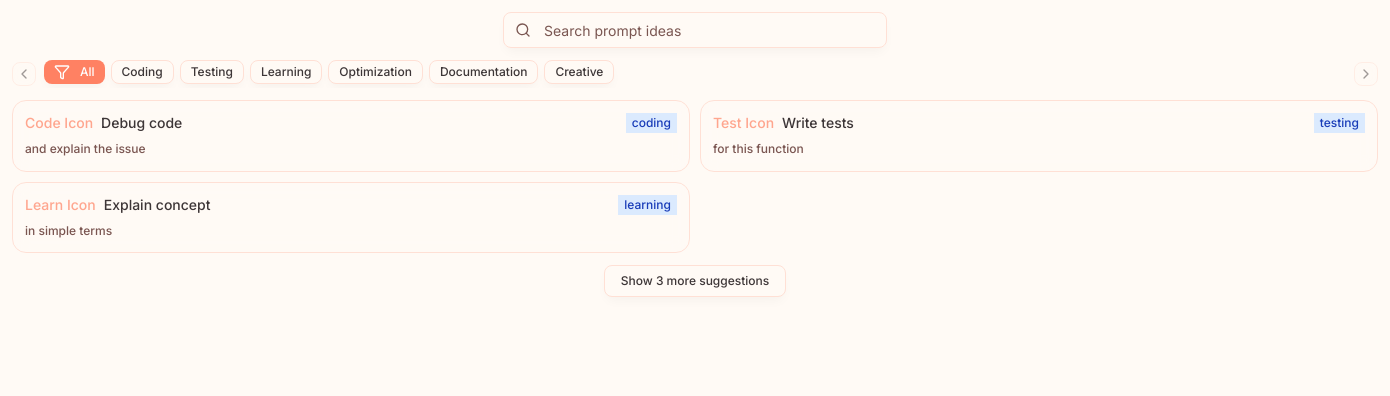
Test: SuggestedPrompts Component › Show More/Show Less Functionality › changes to "Show Less" after expanding
This screenshot has width=1390, height=396.
Click the button "Show 3 more suggestions": (695,281) [604,265,786,297]
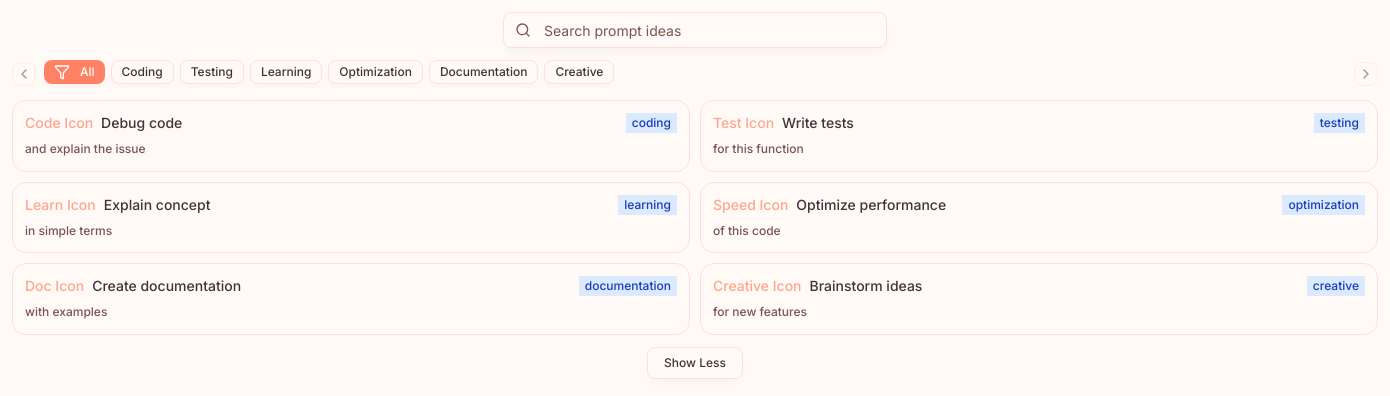
Now the button "Show Less" is shown, box [647,346,743,378]
